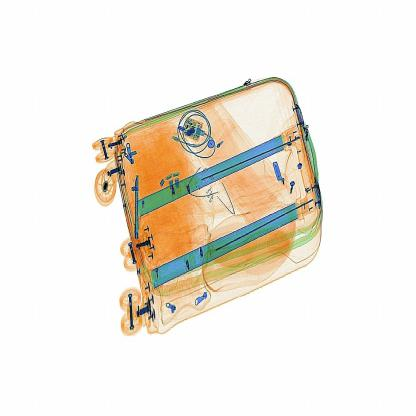wrench: (128, 166, 144, 249)
